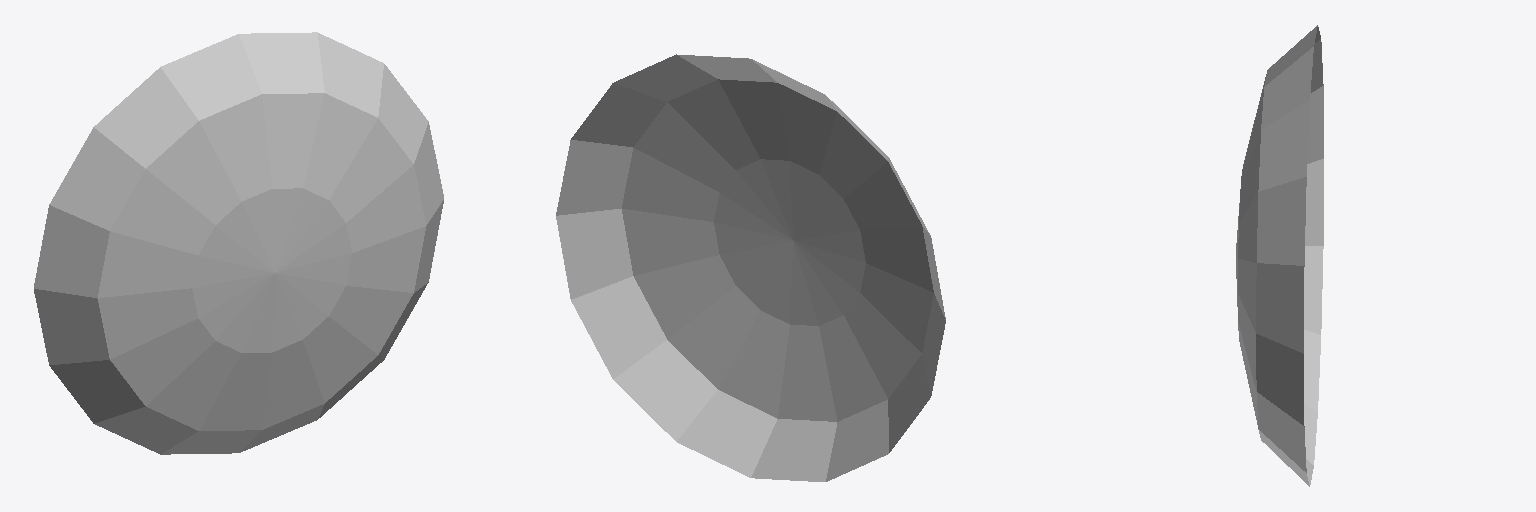
Rendered from derpyEye.obj.
The picture shows the model from 3 angles: view 1: azimuth 30°, elevation 25°; view 2: azimuth 150°, elevation 25°; view 3: azimuth 270°, elevation 25°; orthographic projection.
Parts seen in each view (by area): view 1: EyeShape_Circle; view 2: EyeShape_Circle; view 3: EyeShape_Circle.
Boxes of the visible parts, x1,y1,x2,y2 form: EyeShape_Circle: [34, 32, 443, 454]; EyeShape_Circle: [556, 54, 945, 481]; EyeShape_Circle: [1236, 25, 1323, 486].
Size of the model in its own units: 2.09 by 2.09 by 0.4002.